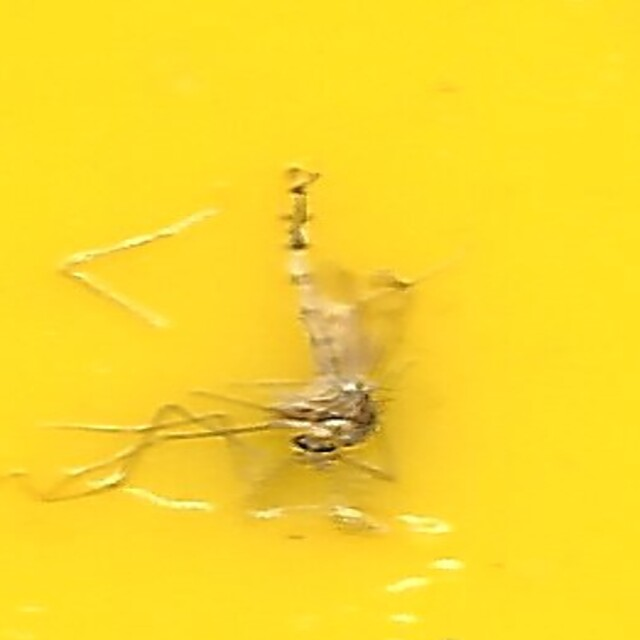Nematocera: (245, 166, 395, 474)
